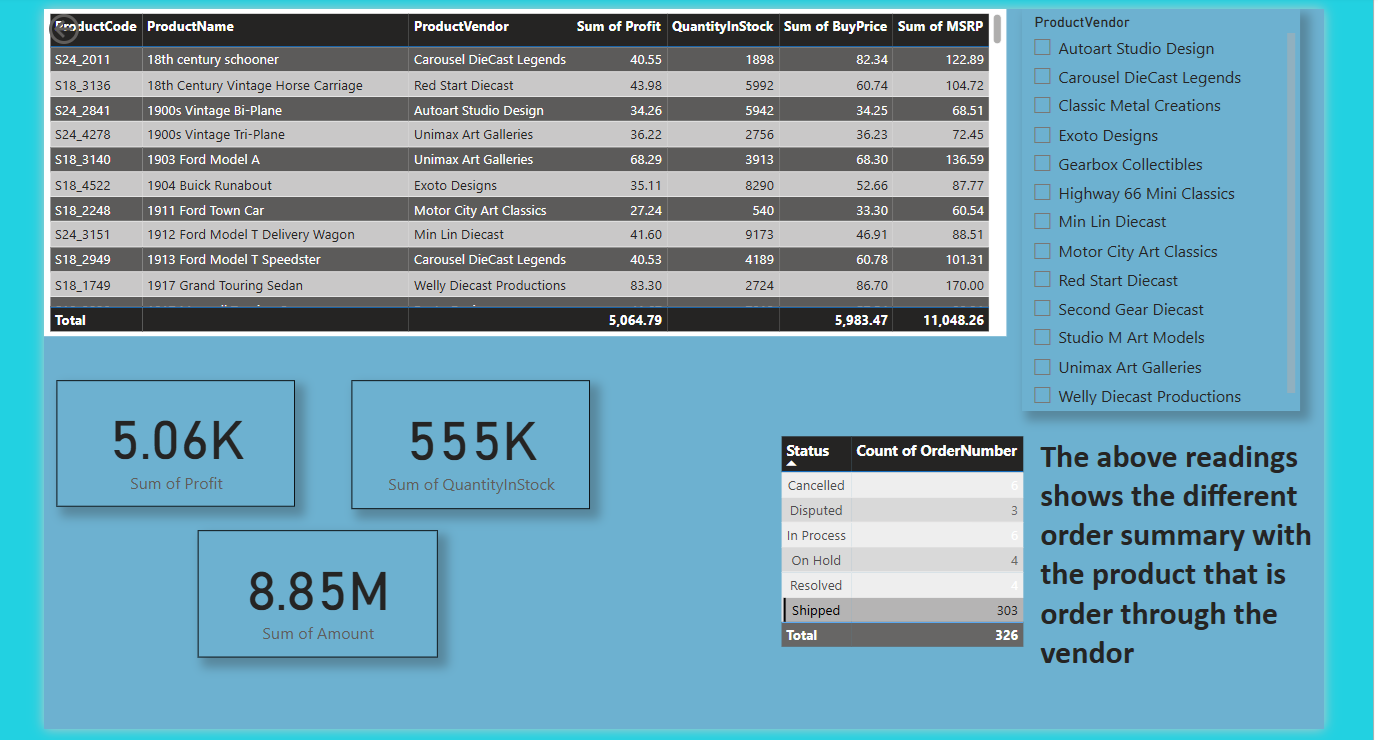

This screenshot's page, from the dashboard's own definition file:
{"tool":"powerbi","page":{"name":"Order Summary","canvas":[1280,720],"ordinal":5},"visuals":[{"type":"tableEx","fields":{"Values":["classicmodels products.ProductCode","classicmodels products.ProductName","classicmodels products.ProductVendor","Sum(classicmodels products.Profit)","classicmodels products.QuantityInStock","Sum(classicmodels products.BuyPrice)","Sum(classicmodels products.MSRP)"]},"box":[0,0,962.5,327.5],"z":0},{"type":"actionButton","box":[0,0,100,40],"z":1000},{"type":"slicer","fields":{"Values":["classicmodels products.ProductVendor"]},"box":[977.5,0,278.8,401.2],"z":2000},{"type":"tableEx","fields":{"Values":["classicmodels orders.Status","classicmodels orders.OrderNumber"]},"box":[731.2,422.5,260,226.2],"z":3000},{"type":"textbox","box":[991.3,422.3,289.3,282.4],"z":4000},{"type":"card","fields":{"Values":["Sum(classicmodels products.Profit)"]},"box":[12.5,371.2,238.8,126.2],"z":5000},{"type":"card","fields":{"Values":["Sum(classicmodels products.QuantityInStock)"]},"box":[307.5,371.2,238.8,128.8],"z":6000},{"type":"card","fields":{"Values":["Sum(classicmodels payments.Amount)"]},"box":[153.8,521.2,240,127.5],"z":7000}]}

Visuals, with their boxes on the page's 1280x720 design canvas (x1, y1, x2, y2). These are canvas units, not pixel positions in the 1378x740 screenshot, which may show the page scaled, cropped or inside an application window:
tableEx - classicmodels products.ProductCode x classicmodels products.ProductName: [left=0, top=0, right=962, bottom=328]
actionButton: [left=0, top=0, right=100, bottom=40]
slicer - classicmodels products.ProductVendor: [left=978, top=0, right=1256, bottom=401]
tableEx - classicmodels orders.Status x classicmodels orders.OrderNumber: [left=731, top=422, right=991, bottom=649]
textbox: [left=991, top=422, right=1281, bottom=705]
card - Sum(classicmodels products.Profit): [left=12, top=371, right=251, bottom=497]
card - Sum(classicmodels products.QuantityInStock): [left=308, top=371, right=546, bottom=500]
card - Sum(classicmodels payments.Amount): [left=154, top=521, right=394, bottom=649]
